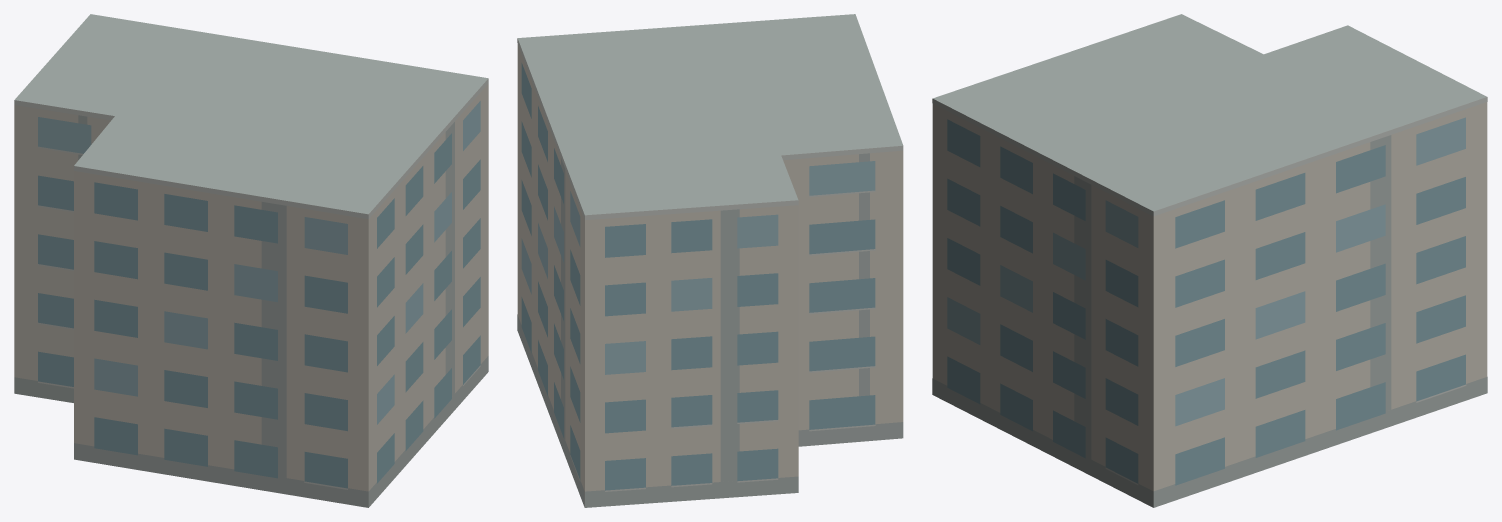
The model's file is survey-upis-32781321.glb.
3 renders of one model, left to right at view 1: azimuth 30°, elevation 25°; view 2: azimuth 150°, elevation 25°; view 3: azimuth 270°, elevation 25°, orthographic.
Parts seen in each view (by area): view 1: survey-upis-32781321.tmp; view 2: survey-upis-32781321.tmp; view 3: survey-upis-32781321.tmp.
Boxes of the visible parts, x1,y1,x2,y2 form: survey-upis-32781321.tmp: (14, 14, 488, 507); survey-upis-32781321.tmp: (517, 14, 903, 507); survey-upis-32781321.tmp: (932, 14, 1487, 507).
Bounding box in the file's own units: 20.73 × 14.5 × 24.61.
